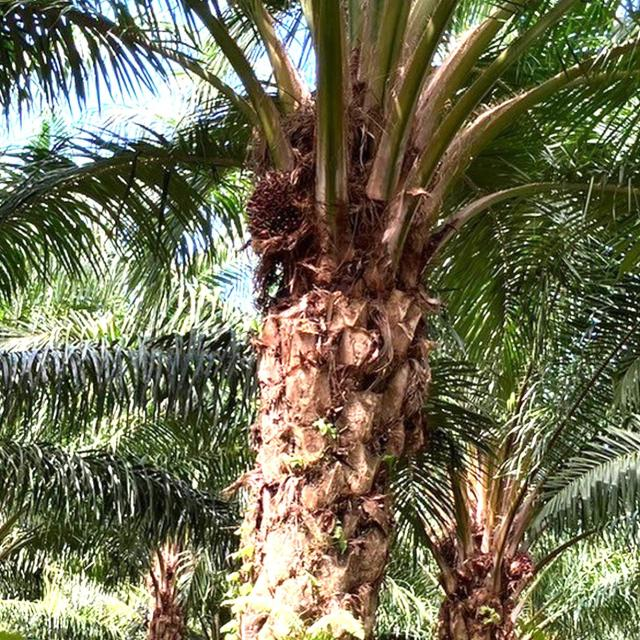ripe: (244, 172, 303, 247)
